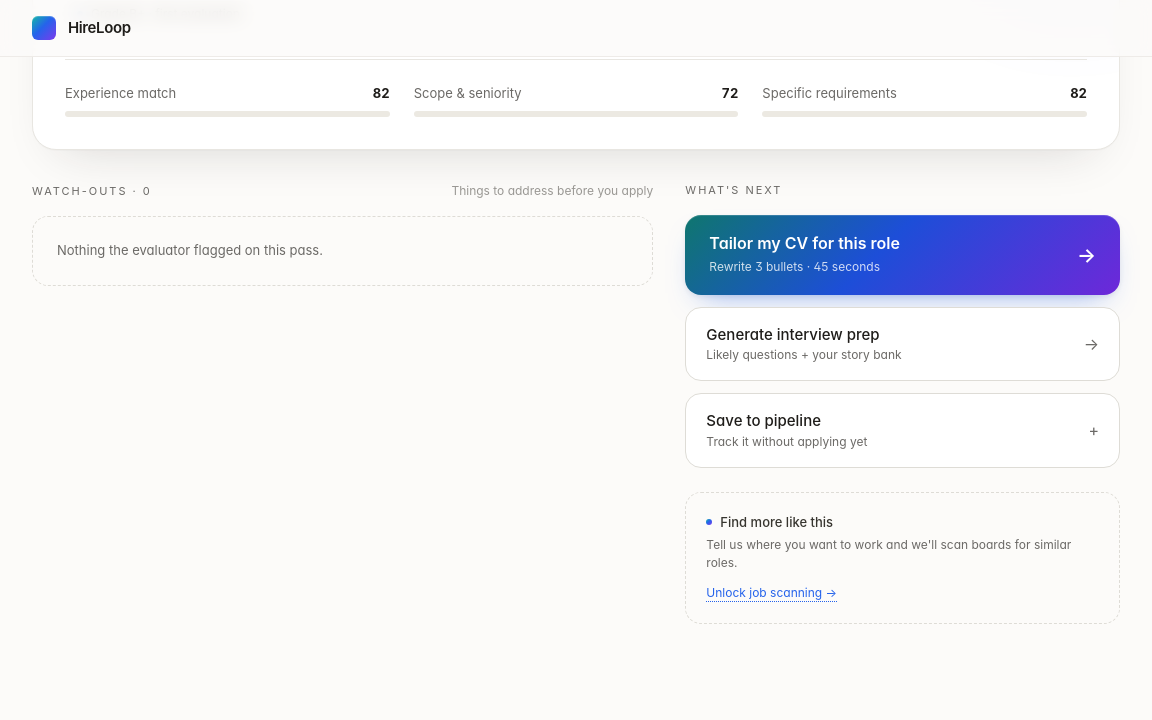
Test: OnboardingPayoffPage › creates an application on Save to pipeline click
This screenshot has width=1152, height=720.
(page scrolled)
Click the button "Save to pipeline Track it without applying yet +" at (764, 420), box [685,393,1120,468]
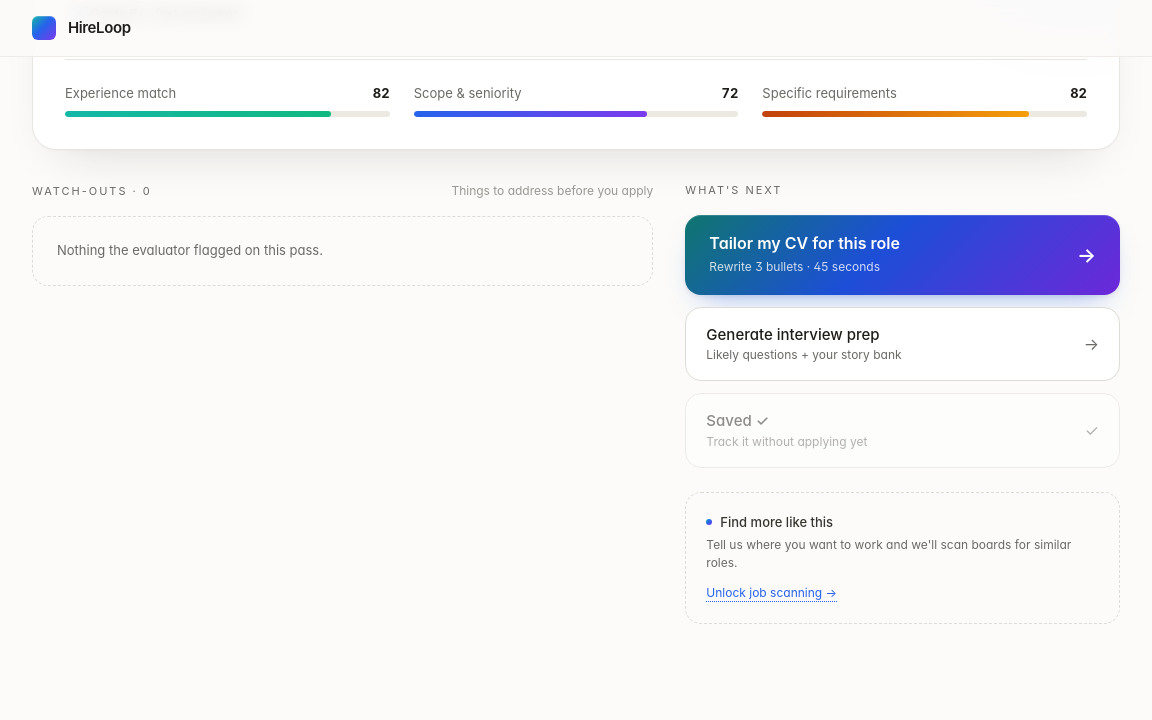
Result: the button "Saved ✓ Track it without applying yet ✓" is shown at [685,393,1120,468]
